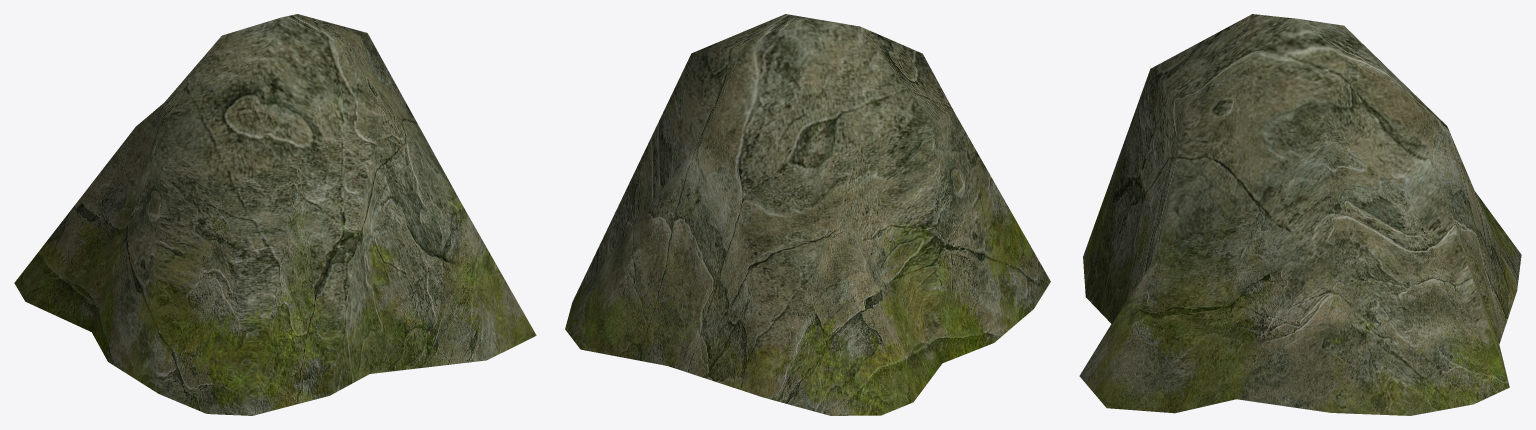
The model's file is STONE2.fbx.
The picture shows the model from 3 angles, left to right: view 1: azimuth 30°, elevation 25°; view 2: azimuth 150°, elevation 25°; view 3: azimuth 270°, elevation 25°; orthographic projection. The views are drawn at different scales.
Parts seen in each view (by area): view 1: Box001; view 2: Box001; view 3: Box001.
Part boxes in pixels (bbox=[...]): Box001: bbox=[14, 14, 536, 415]; Box001: bbox=[565, 14, 1050, 415]; Box001: bbox=[1079, 14, 1521, 415].
Size of the model in its own units: 19.2 by 14.69 by 19.26.
Materials: 1 (1 with a texture image).
